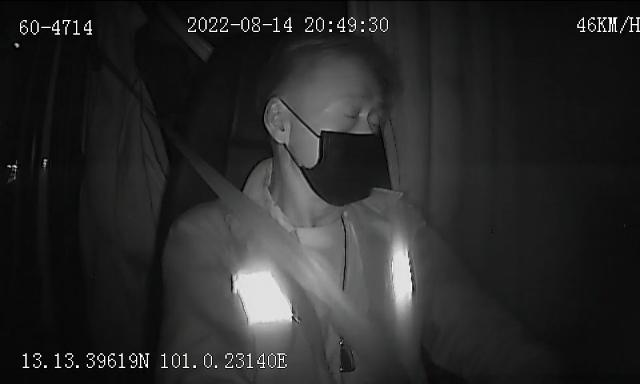Seatbelt: (184, 147, 382, 367)
